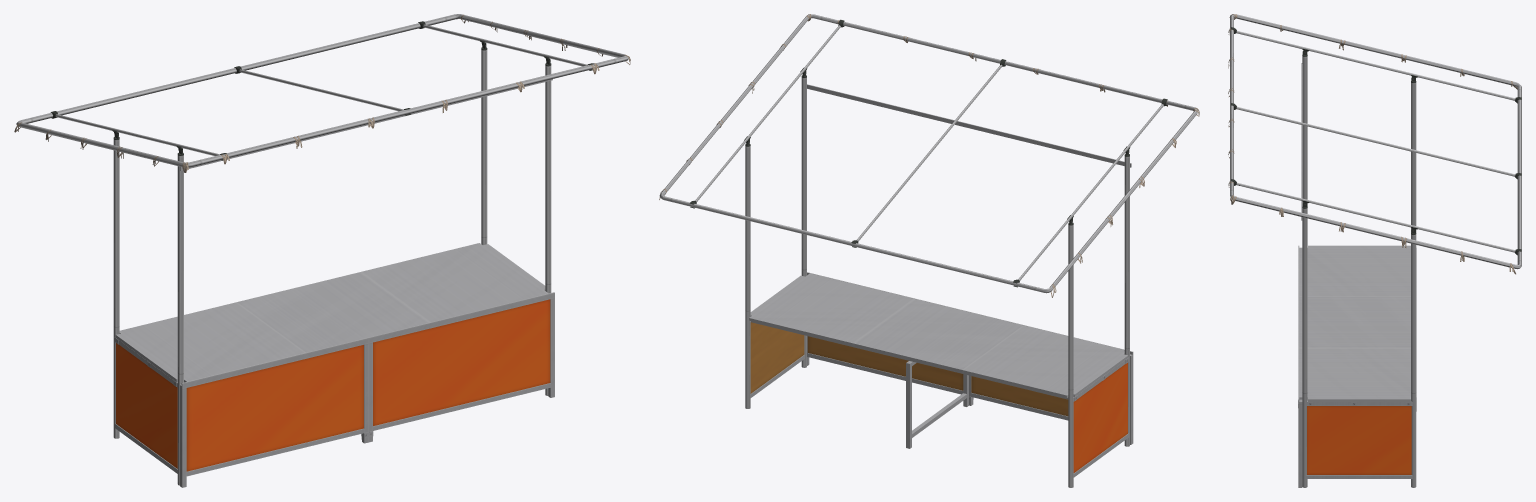
The model's file is jsf_4P_s03_c01_t01.fbx.
3 views of the same model, side by side, from view 1: azimuth 30°, elevation 25°; view 2: azimuth 150°, elevation 25°; view 3: azimuth 270°, elevation 25° (orthographic). The views are drawn at different scales.
Visible parts, largest first — view 1: Base_s03_c01, Table_4P_s03_t01, Pillar4_s03, Rope_4P_s03; view 2: Table_4P_s03_t01, Pillar4_s03, Base_s03_c01, Support; view 3: Table_4P_s03_t01, Pillar4_s03, Base_s03_c01, Rope_4P_s03.
Boxes of the visible parts, left/top/right/bottom form: Base_s03_c01: left=114, top=292, right=554, bottom=487; Table_4P_s03_t01: left=115, top=243, right=548, bottom=386; Pillar4_s03: left=16, top=14, right=628, bottom=485; Rope_4P_s03: left=14, top=14, right=630, bottom=172; Table_4P_s03_t01: left=749, top=273, right=1128, bottom=400; Pillar4_s03: left=659, top=14, right=1198, bottom=487; Base_s03_c01: left=750, top=272, right=1133, bottom=477; Support: left=906, top=361, right=968, bottom=448; Table_4P_s03_t01: left=1299, top=245, right=1416, bottom=405; Pillar4_s03: left=1230, top=14, right=1521, bottom=487; Base_s03_c01: left=1298, top=245, right=1412, bottom=487; Rope_4P_s03: left=1228, top=14, right=1517, bottom=274.
Bounding box in the file's own units: 316 × 243 × 211.
